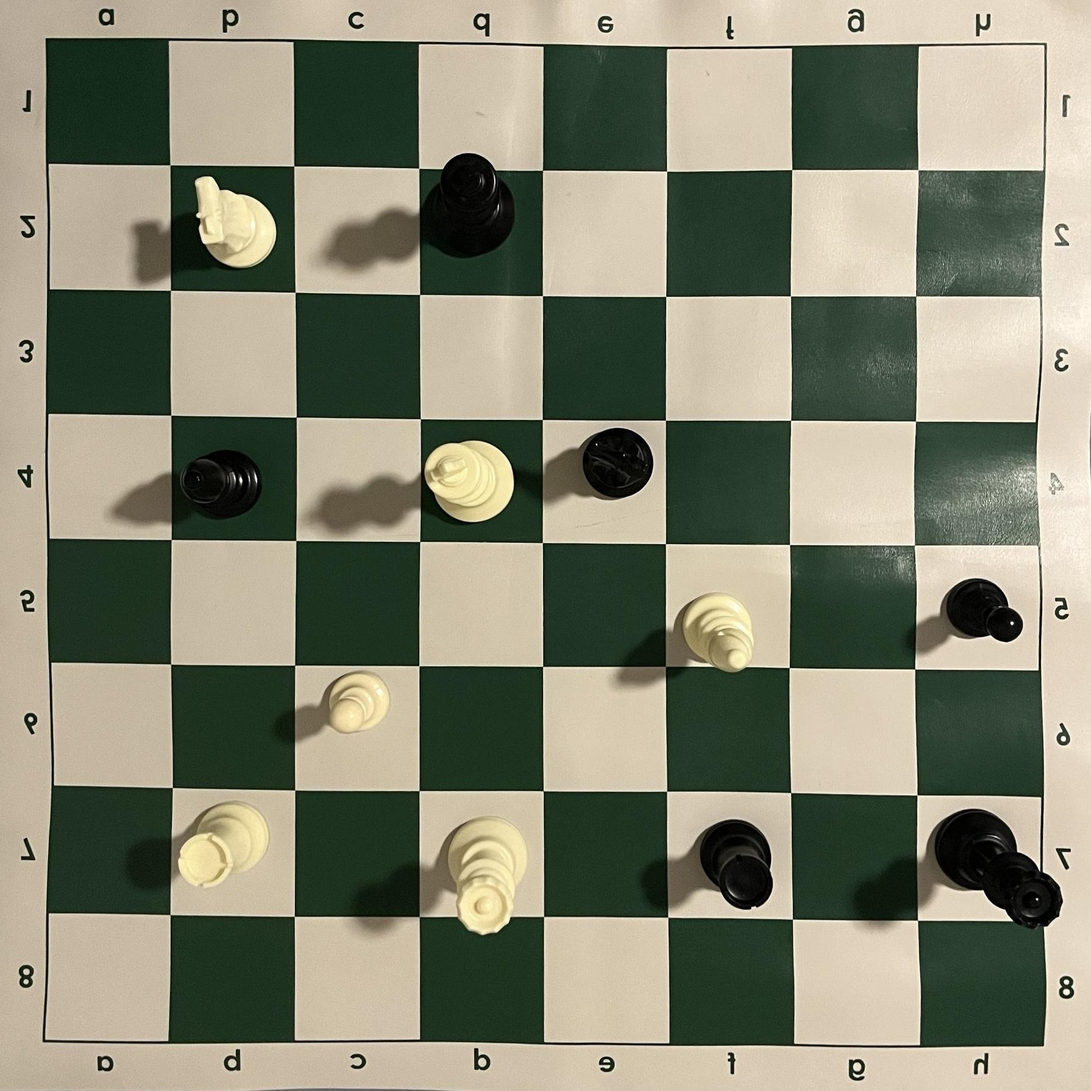black_bishop: (179, 449, 262, 521)
black_king: (422, 152, 516, 259)
black_knight: (581, 427, 655, 501)
black_pawn: (946, 577, 1025, 644)
black_queen: (933, 807, 1064, 931)
black_rook: (698, 818, 775, 912)
white_bishop: (677, 592, 755, 673)
white_king: (423, 439, 516, 524)
white_knight: (194, 176, 278, 269)
white_pawn: (327, 670, 391, 734)
white_queen: (447, 816, 531, 936)
white_rook: (177, 801, 271, 890)
